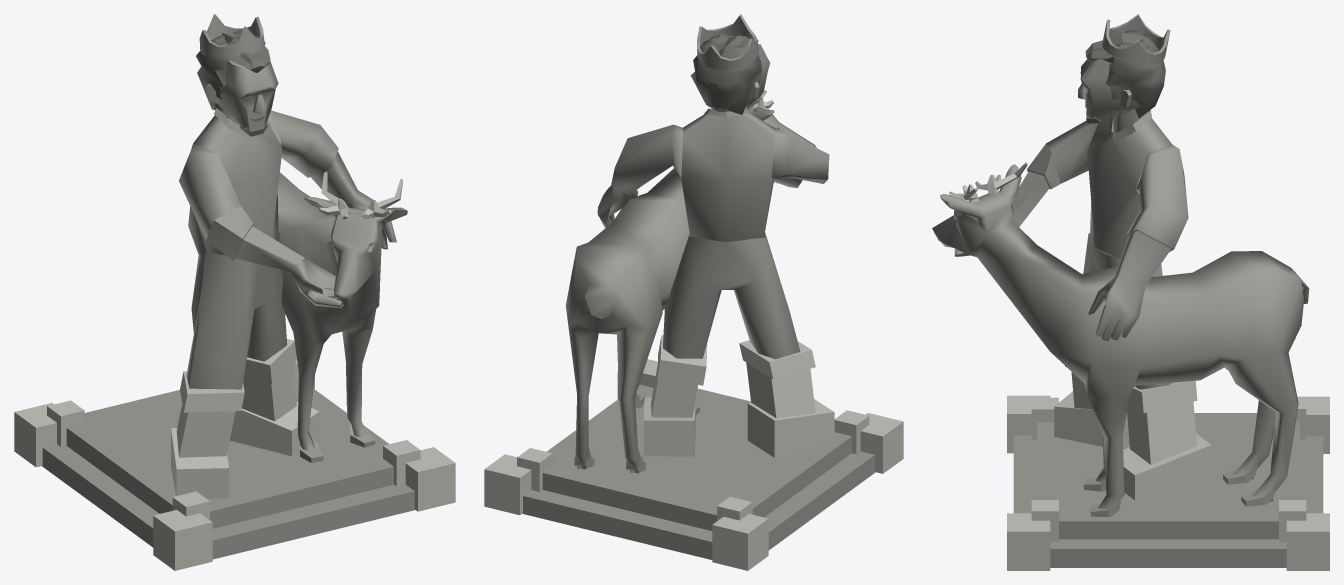
Rendered from statue_levi.fbx.
3 renders of one model, left to right at view 1: azimuth 30°, elevation 25°; view 2: azimuth 150°, elevation 25°; view 3: azimuth 270°, elevation 25°, orthographic. The views are drawn at different scales.
Parts seen in each view (by area): view 1: polySurface97; view 2: polySurface97; view 3: polySurface97.
Boxes of the visible parts, box(x1,y1,x2,y2) form: polySurface97: box(14, 14, 455, 570); polySurface97: box(484, 14, 903, 570); polySurface97: box(932, 14, 1329, 570).
Bounding box in the file's own units: 99.48 × 162 × 123.
1 material, 1 textured.
